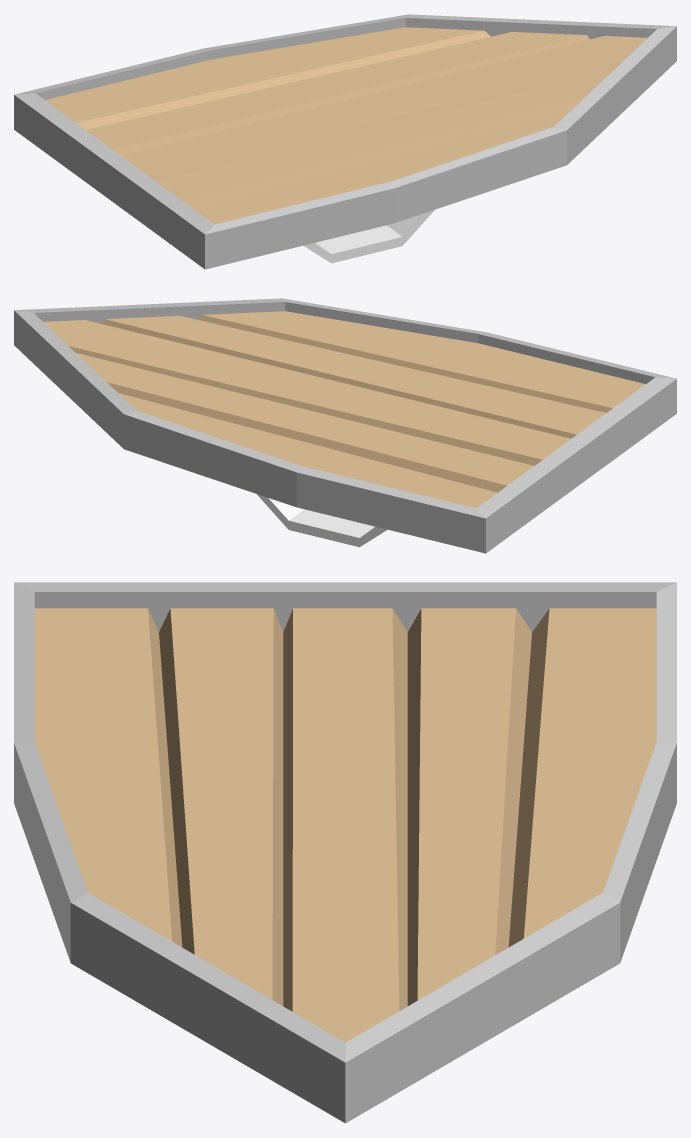
File: Shield_4_a_wood.fbx
3 renders of one model, top to bottom at view 1: azimuth 30°, elevation 25°; view 2: azimuth 150°, elevation 25°; view 3: azimuth 270°, elevation 25°, orthographic. The views are drawn at different scales.
Parts seen in each view (by area): view 1: Plane.034, Plane.035, Plane.036; view 2: Plane.034, Plane.035, Plane.036; view 3: Plane.034, Plane.035.
Part boxes in pixels (box(x1,y1,x2,y2)): Plane.034: box(45, 27, 647, 224); Plane.035: box(14, 14, 676, 269); Plane.036: box(303, 210, 434, 263); Plane.034: box(43, 311, 645, 508); Plane.035: box(14, 298, 676, 553); Plane.036: box(257, 494, 387, 547); Plane.034: box(34, 608, 656, 1042); Plane.035: box(14, 582, 676, 1123).
Bounding box in the file's own units: 63.96 × 13.99 × 37.31.
